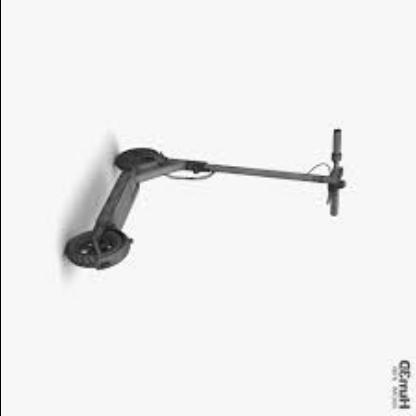bike: (63, 128, 349, 270)
